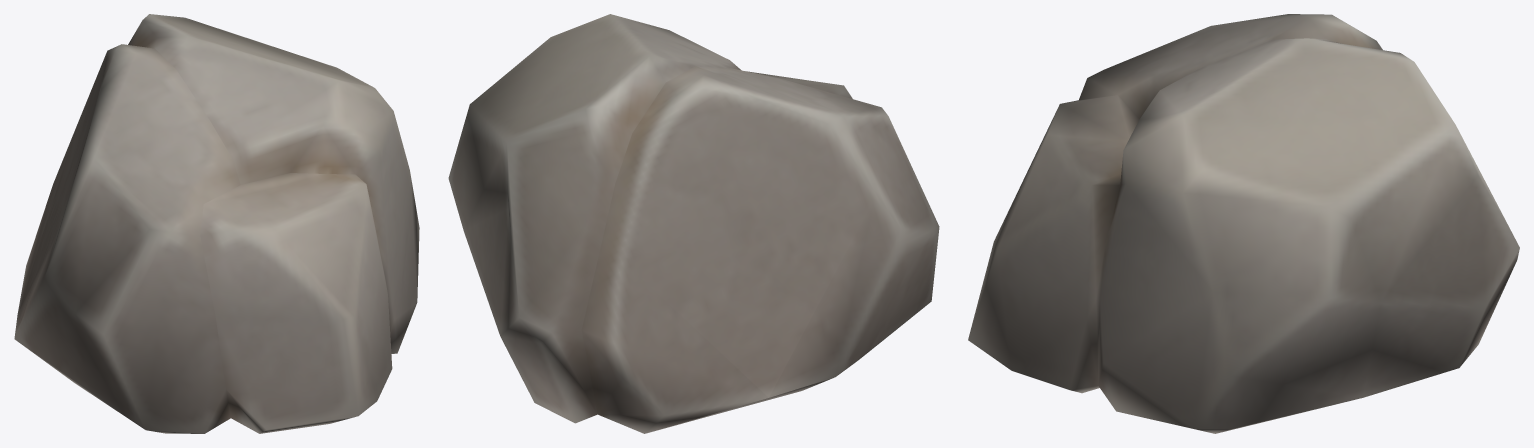
File: rocks_01.glb
3 views of the same model, side by side, from view 1: azimuth 30°, elevation 25°; view 2: azimuth 150°, elevation 25°; view 3: azimuth 270°, elevation 25° (orthographic). The views are drawn at different scales.
Parts seen in each view (by area): view 1: SM_Rocks_01_RocksStylized_M_0; view 2: SM_Rocks_01_RocksStylized_M_0; view 3: SM_Rocks_01_RocksStylized_M_0.
Part boxes in pixels (bbox=[...]): SM_Rocks_01_RocksStylized_M_0: bbox=[14, 14, 419, 433]; SM_Rocks_01_RocksStylized_M_0: bbox=[448, 14, 939, 433]; SM_Rocks_01_RocksStylized_M_0: bbox=[968, 14, 1519, 433].
Bounding box in the file's own units: 4.53 × 3.25 × 5.16.
Materials: 1 (1 with a texture image).
